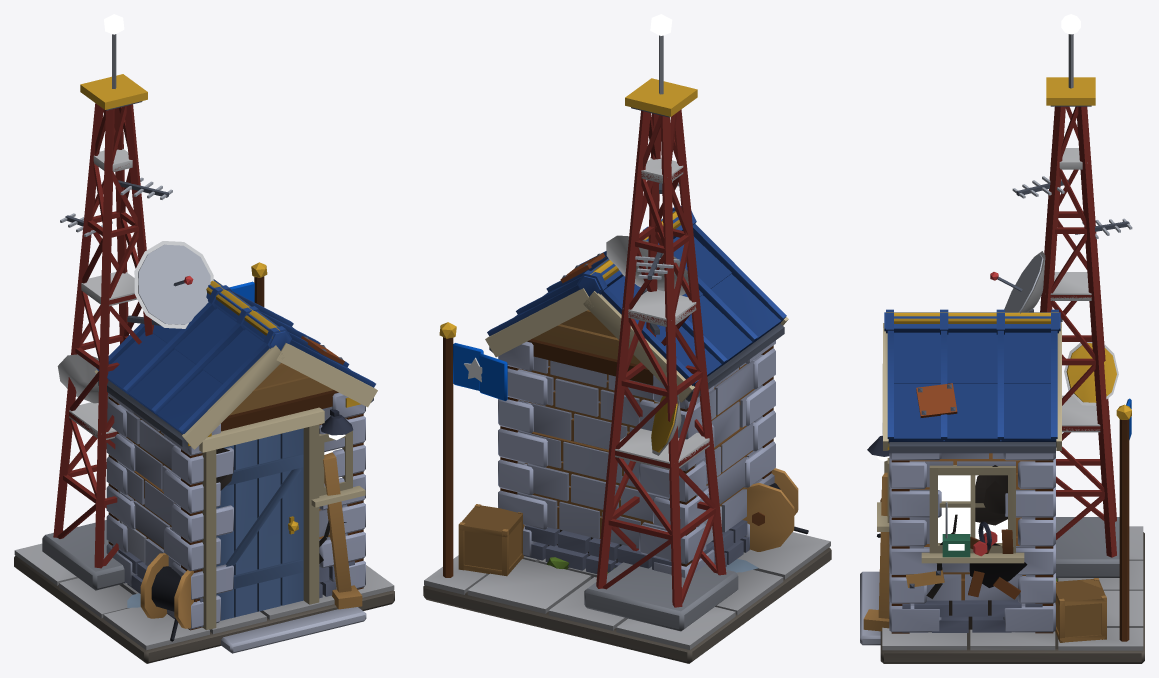
Rendered from b_funkturm.glb.
3 renders of one model, left to right at view 1: azimuth 30°, elevation 25°; view 2: azimuth 150°, elevation 25°; view 3: azimuth 270°, elevation 25°, orthographic. The views are drawn at different scales.
Parts seen in each view (by area): view 1: body, lv4_bude, spin_schuessel, lv4_ausbau, lvmax3_bude, dmg2_bruch; view 2: body, lv4_bude, lv4_ausbau, lvmax3_bude, sway_flag, spin_schuessel; view 3: body, lv4_bude, lv4_ausbau, dmg2_bruch, win_glow, lvmax3_bude, dmg1_spuren, spin_schuessel.
Part boxes in pixels (<box>): body: <box>14,34,394,663</box>; lv4_bude: <box>106,392,365,629</box>; spin_schuessel: <box>134,241,213,328</box>; lv4_ausbau: <box>57,74,360,445</box>; lvmax3_bude: <box>108,390,363,630</box>; dmg2_bruch: <box>323,452,362,609</box>; body: <box>423,35,831,663</box>; lv4_bude: <box>498,340,775,577</box>; lv4_ausbau: <box>439,78,697,577</box>; lvmax3_bude: <box>500,339,773,566</box>; sway_flag: <box>453,343,507,400</box>; spin_schuessel: <box>606,235,688,295</box>; body: <box>860,34,1144,663</box>; lv4_bude: <box>889,453,1055,632</box>; lv4_ausbau: <box>886,77,1131,641</box>; dmg2_bruch: <box>863,472,1027,631</box>; win_glow: <box>938,475,1007,542</box>; lvmax3_bude: <box>891,453,1053,633</box>; dmg1_spuren: <box>926,465,1007,598</box>; spin_schuessel: <box>990,251,1045,313</box>.
Size of the model in its own units: 3.52 by 7.54 by 3.47.
